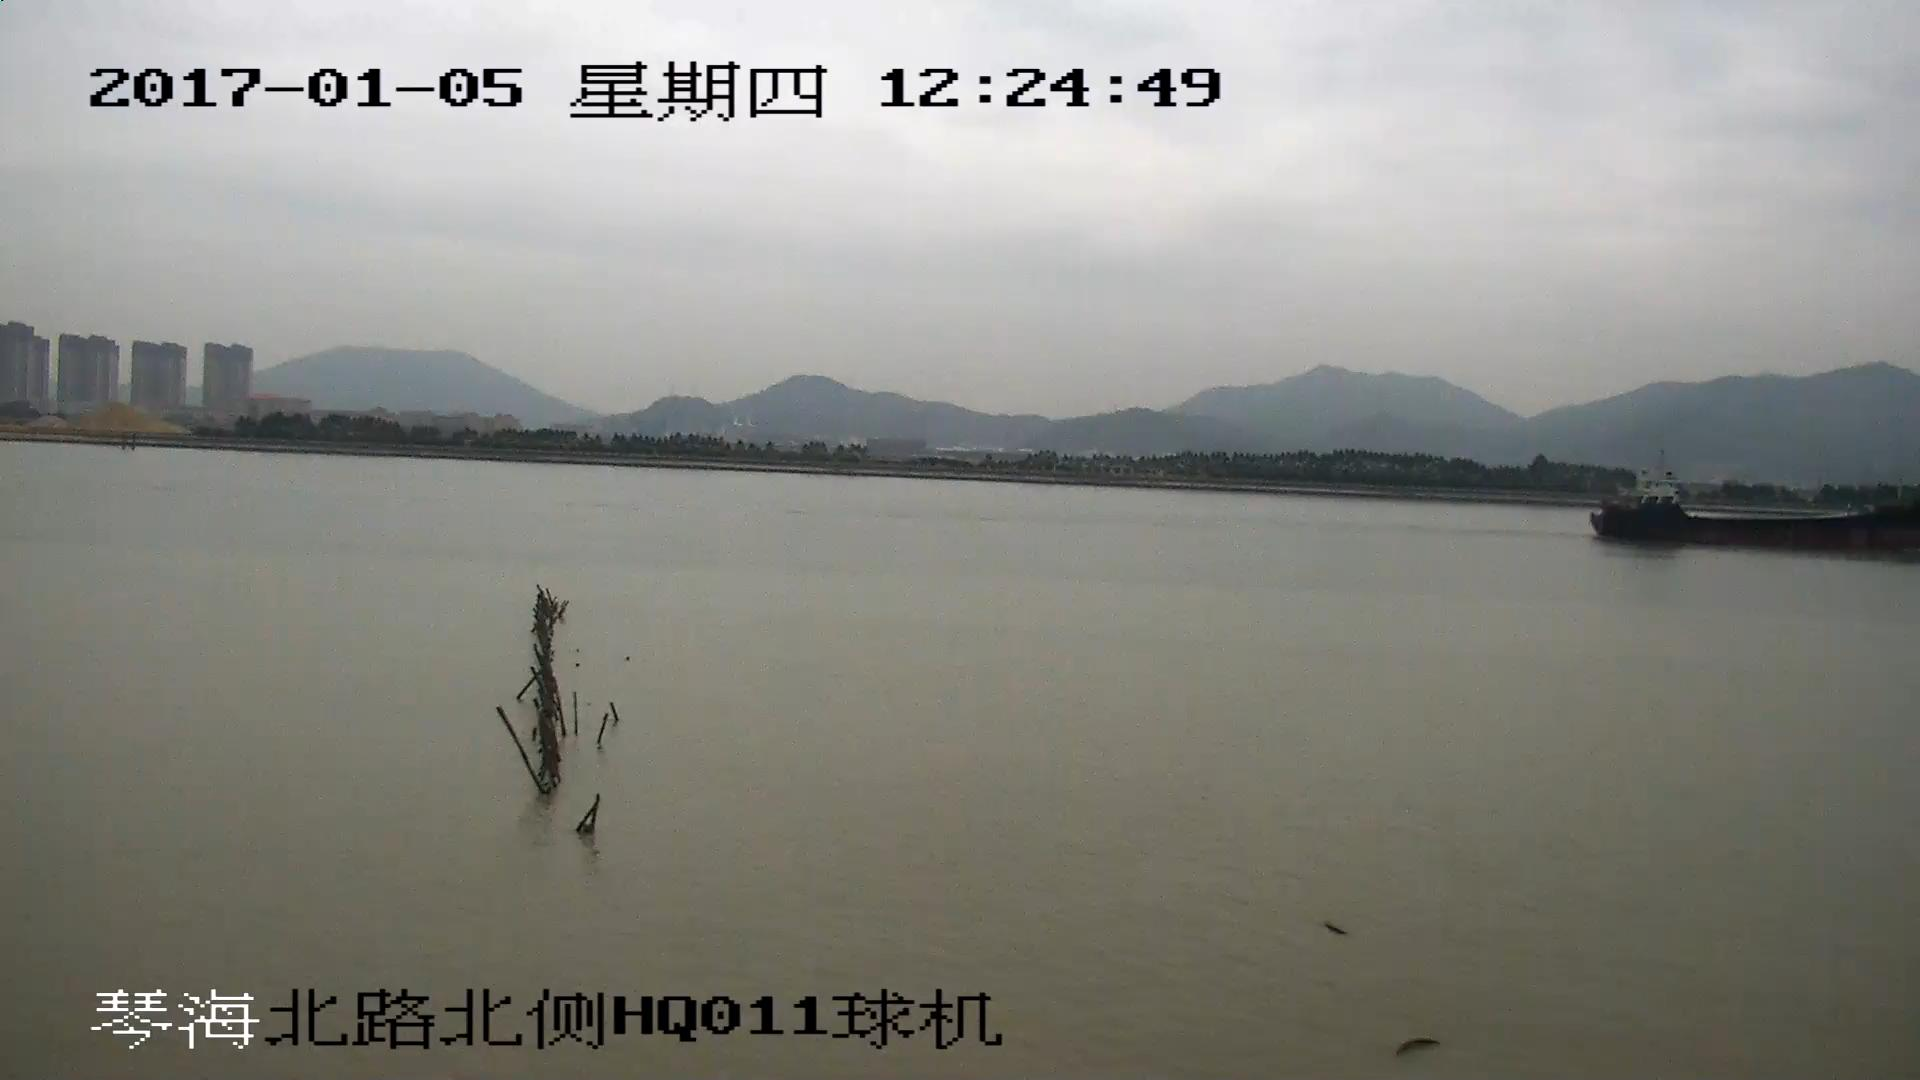general cargo ship: (1594, 479, 1920, 551)
